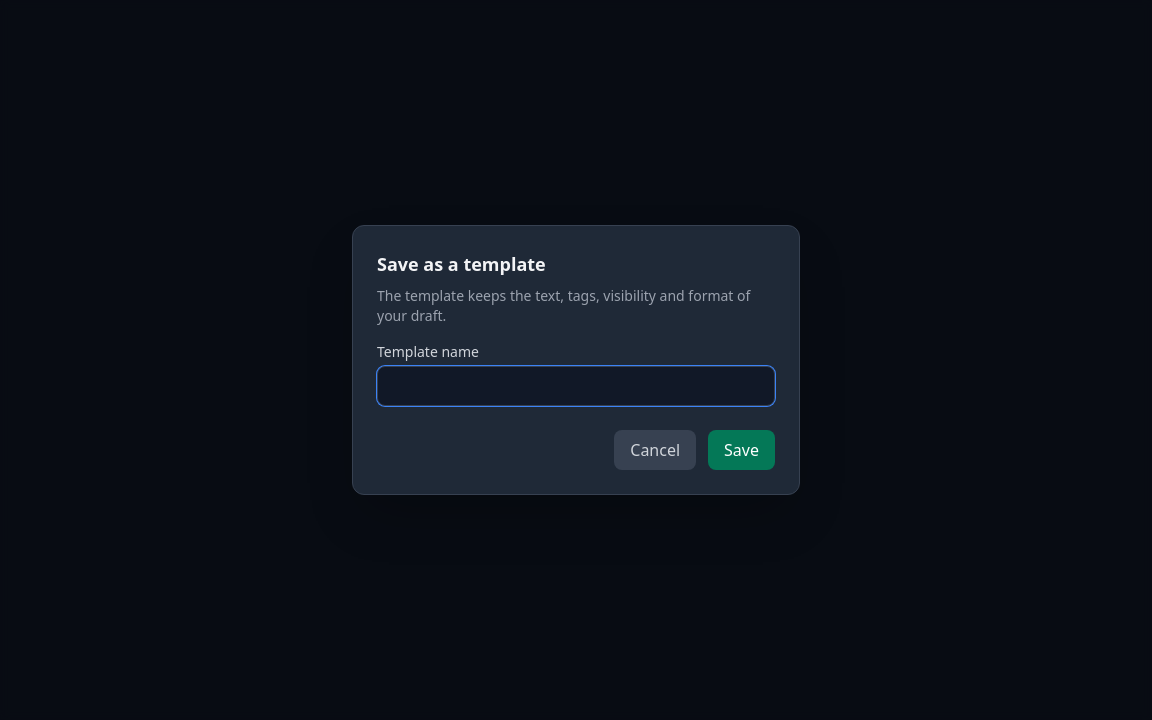
it: TemplateNameDialog › stays open with the name and says so when the template could not be saved
The image size is (1152, 720).
Type "Weekly" into the field labelled "Template name" at (576,386), box x1=377 y1=366 x2=775 y2=406
Then press Enter
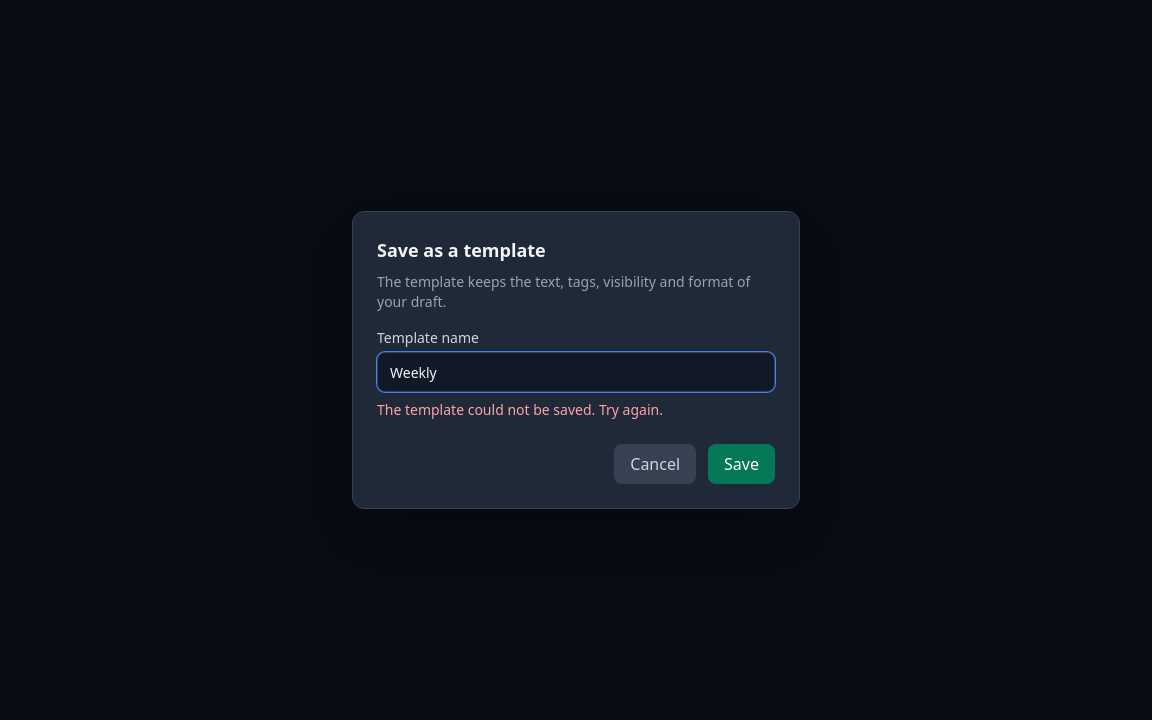
Expected: the dialog is shown, x1=352 y1=211 x2=800 y2=509
Expected: the message reads "The template could not be saved. Try again.", x1=377 y1=400 x2=663 y2=419
Click the button "Save" at (742,464), box x1=708 y1=444 x2=775 y2=484
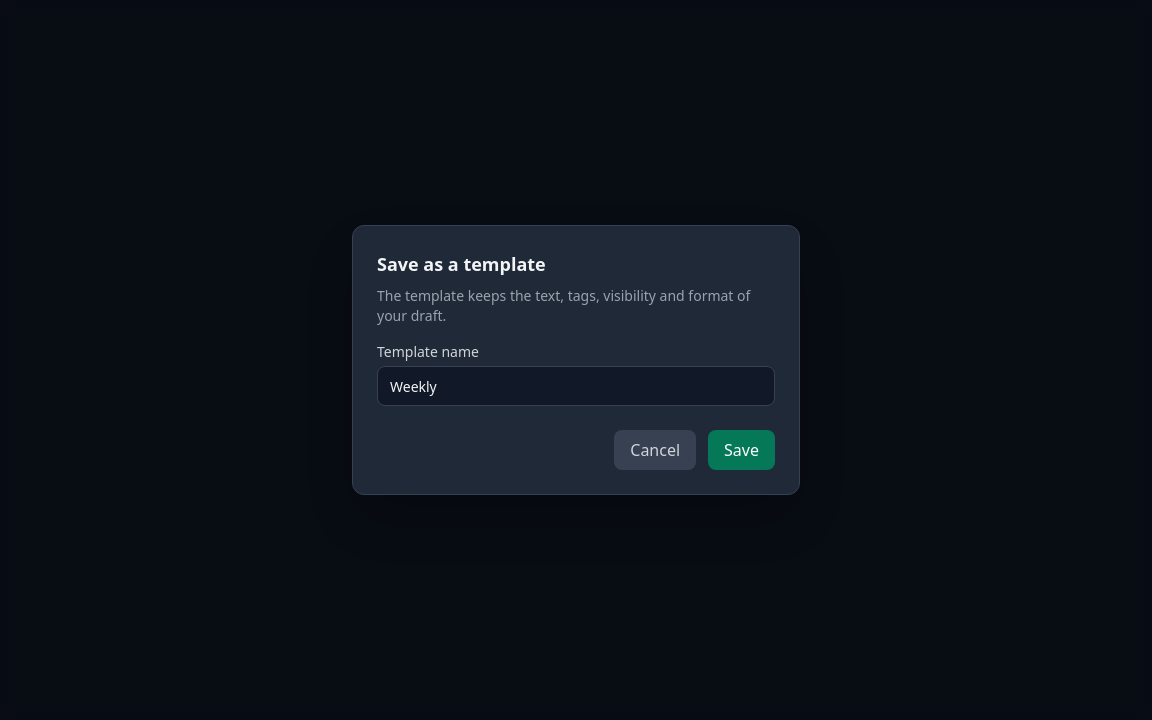
Expected: the message "The template could not be saved. Try again." is gone
